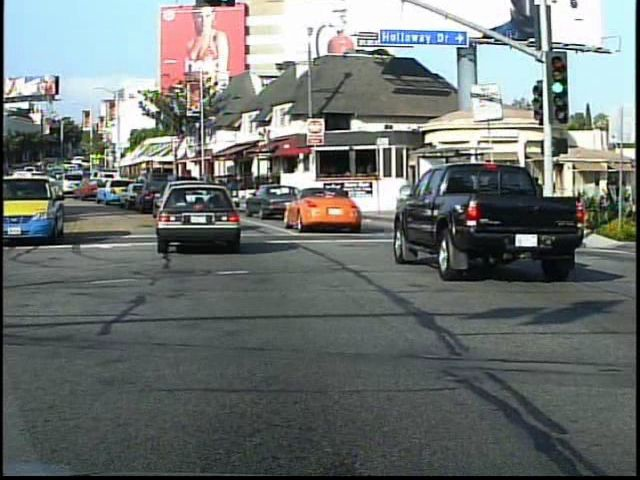person: (598, 174, 621, 258)
